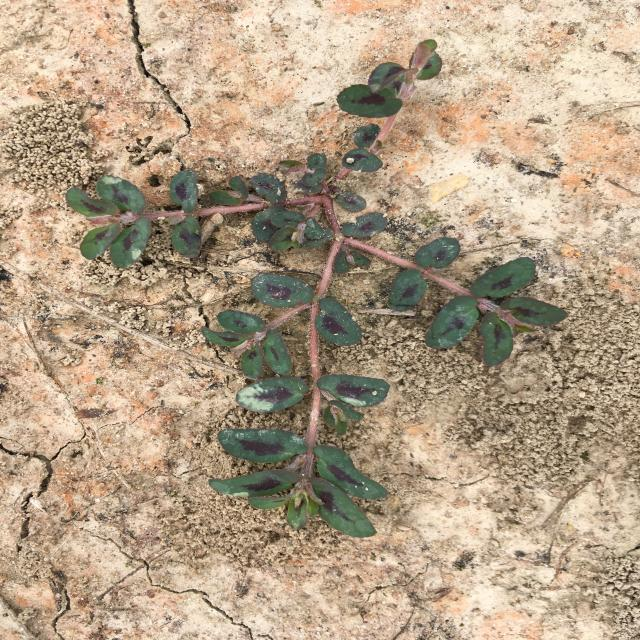SpottedSpurge: (65, 39, 568, 538)
